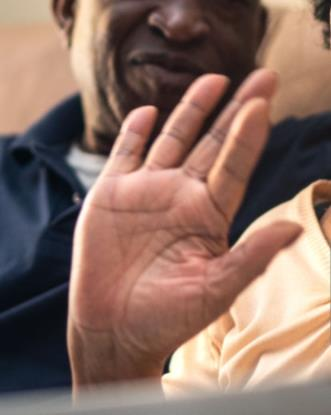down: (57, 66, 309, 354)
